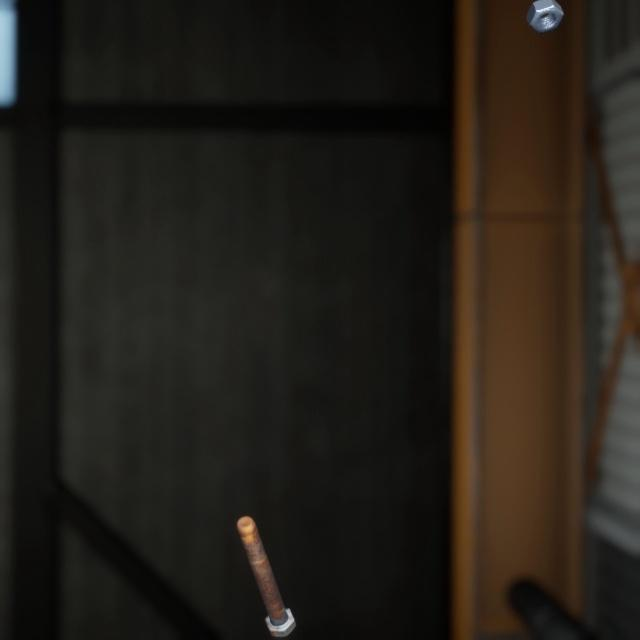bolt: (232, 487, 300, 618)
nut: (521, 0, 568, 30)
